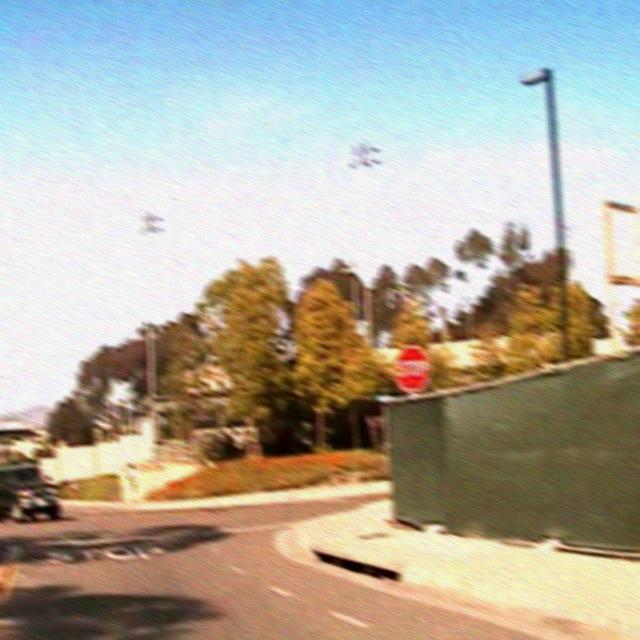stop: (393, 344, 432, 391)
